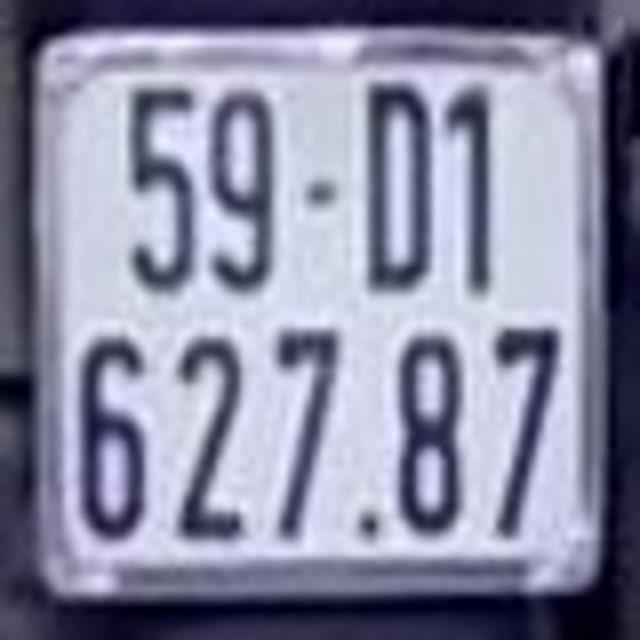1: (445, 83, 499, 296)
2: (172, 335, 239, 538)
5: (130, 79, 196, 287)
6: (84, 329, 148, 535)
7: (266, 316, 341, 534), (490, 316, 558, 532)
8: (393, 322, 459, 529)
9: (209, 90, 274, 289)
D: (359, 82, 428, 295)
